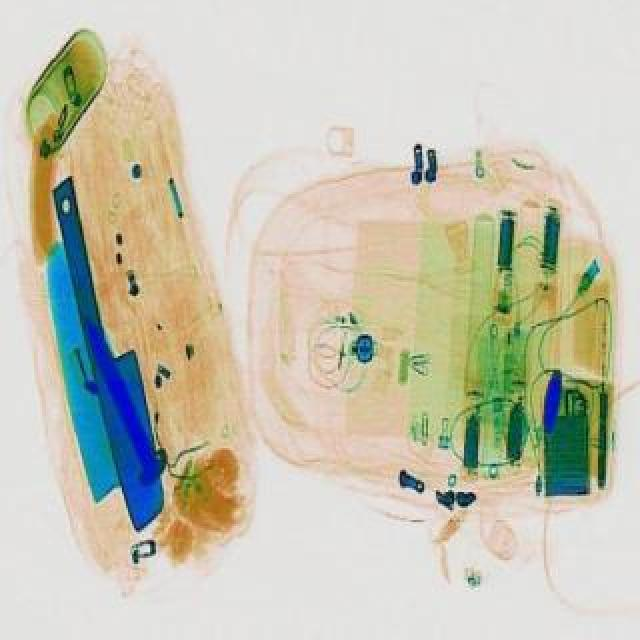knife: (36, 178, 180, 536)
